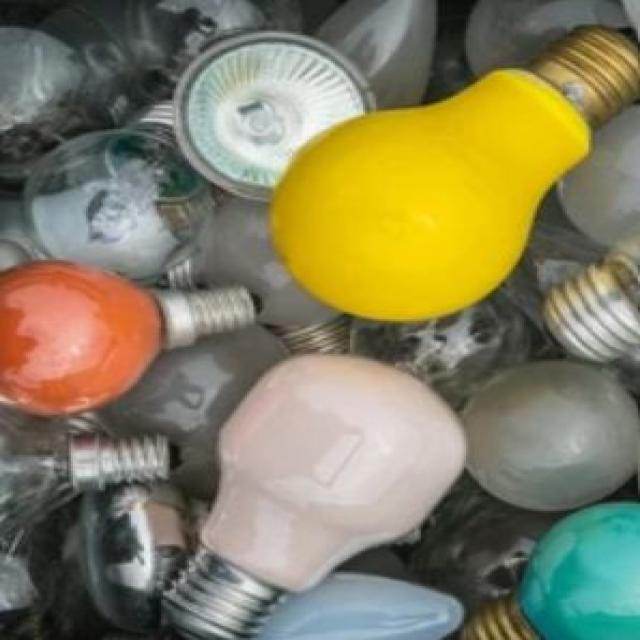electronic: (0, 0, 638, 638), (264, 22, 638, 322), (155, 349, 468, 638), (457, 358, 638, 512), (0, 256, 163, 417), (513, 499, 638, 638)
